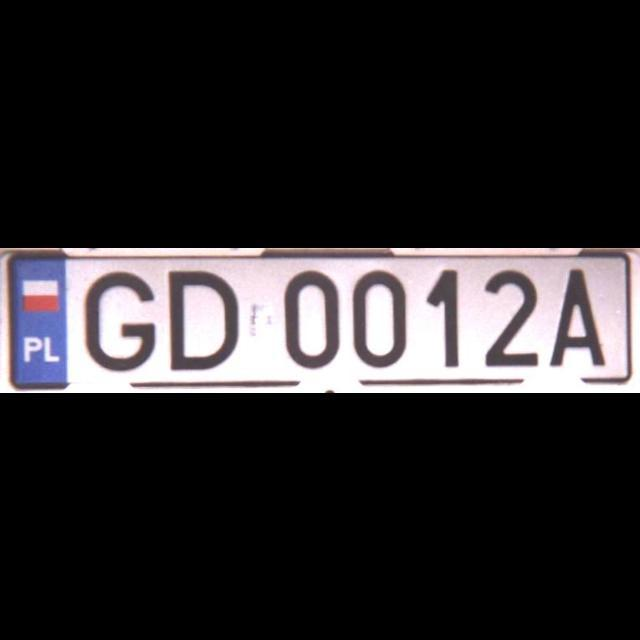license-plates: (8, 250, 640, 390)
